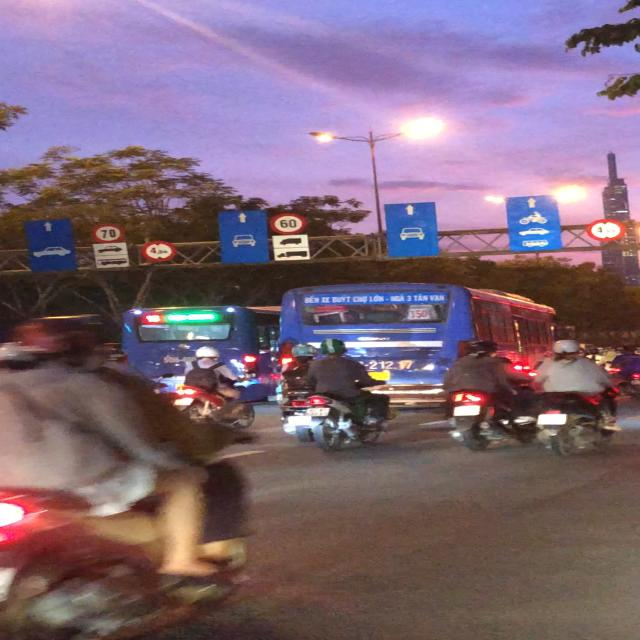Bien bao han che chieu cao: (585, 214, 625, 246), (141, 240, 179, 262)
Bien bao toc do toi da cho phep: (265, 210, 312, 235), (88, 221, 130, 246)
